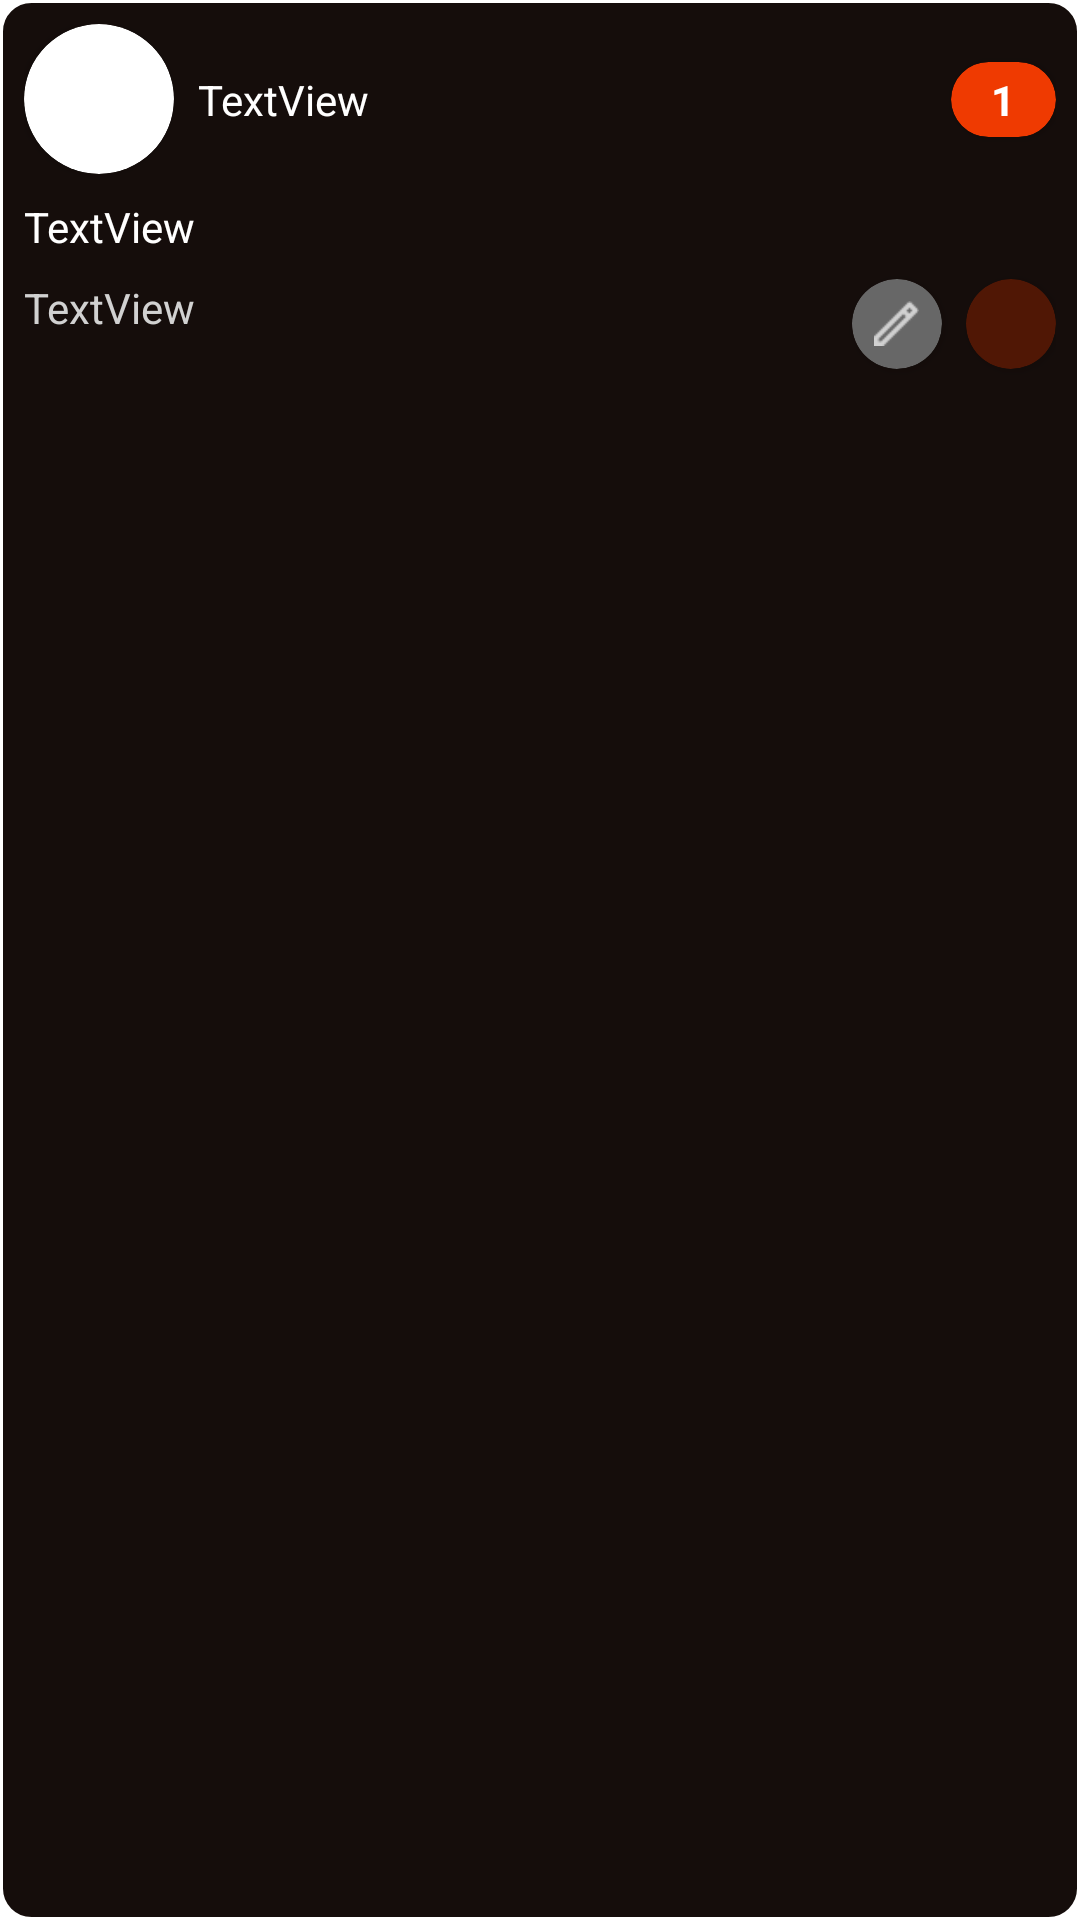

Named icons in this screenshot (1080w x 1920h) and their centers, [x,y]:
edit: [896,323]
